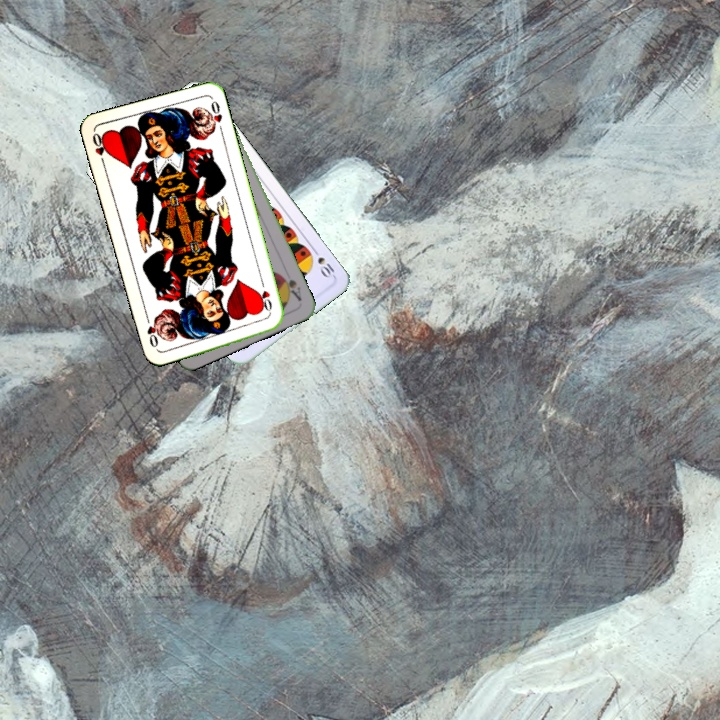HO: (88, 129, 111, 168), (254, 278, 275, 319)
S10: (309, 244, 337, 281)
SA: (276, 269, 304, 304)
